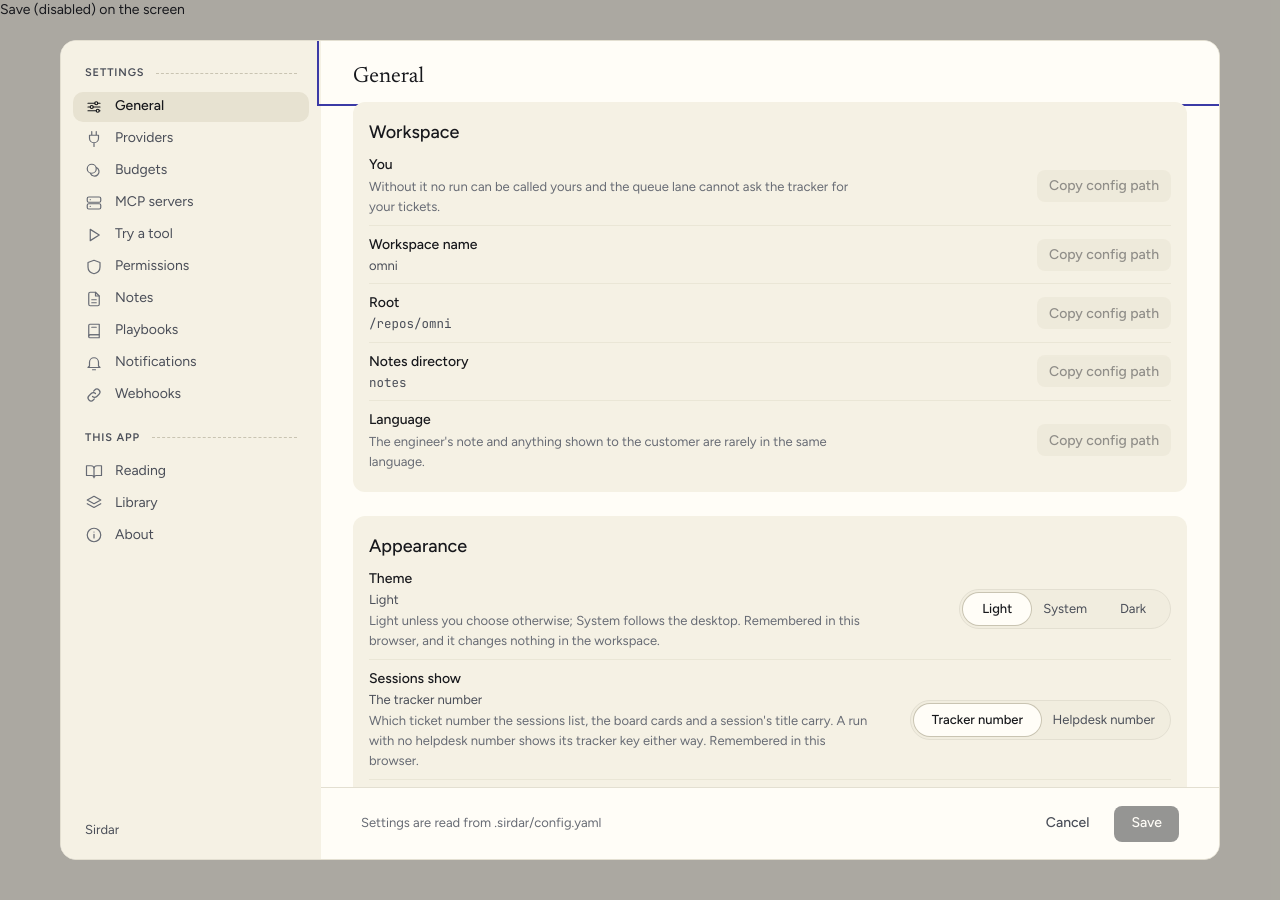
General › switches which ticket number the sessions show, and remembers it
Expected: the radio button labelled "Tracker number" is checked, x1=914 y1=704 x2=1041 y2=736
Click the radio button labelled "Helpdesk number" at (1104, 720), box x1=1041 y1=704 x2=1167 y2=736
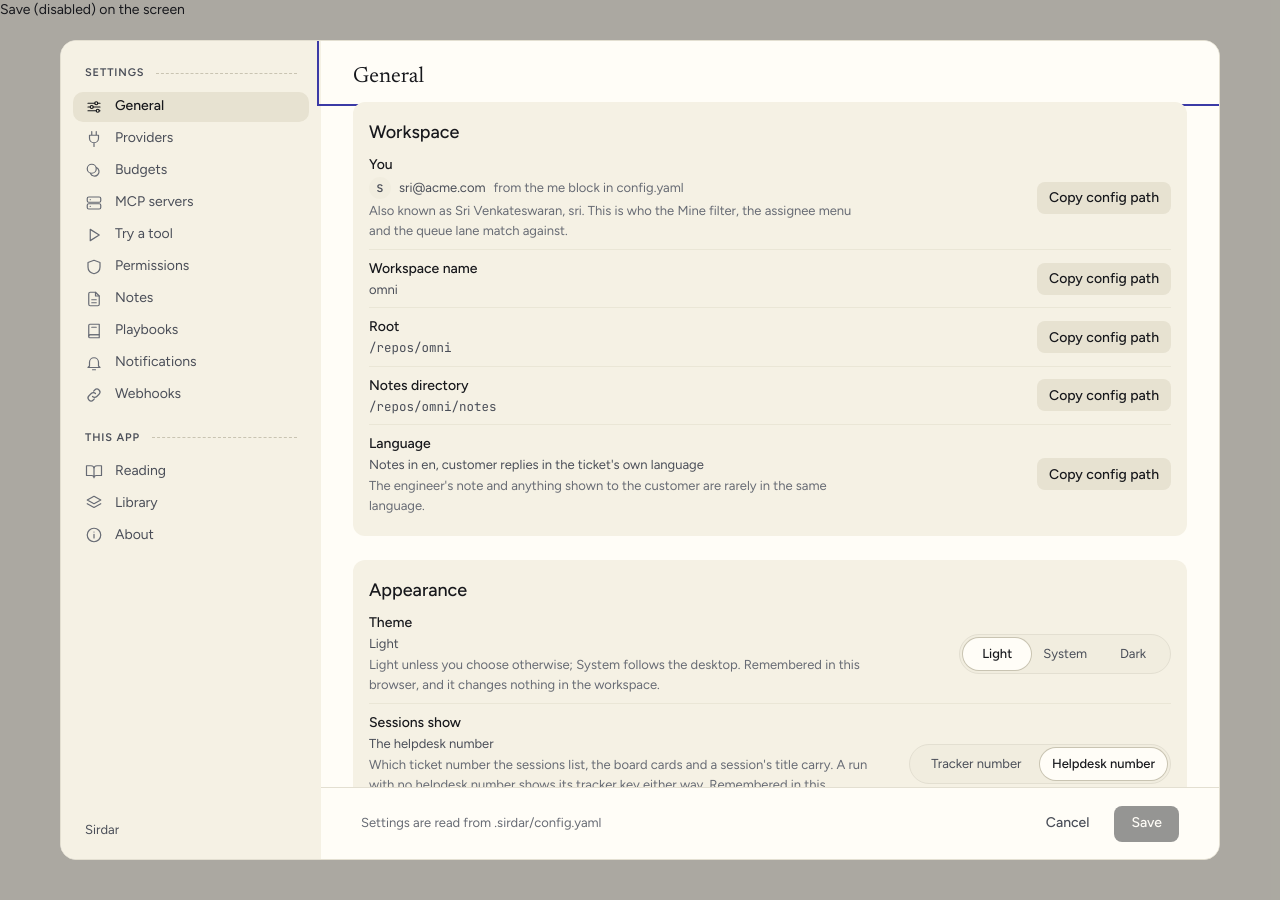
Expected: the text "The helpdesk number" is shown, x1=369 y1=736 x2=494 y2=751
